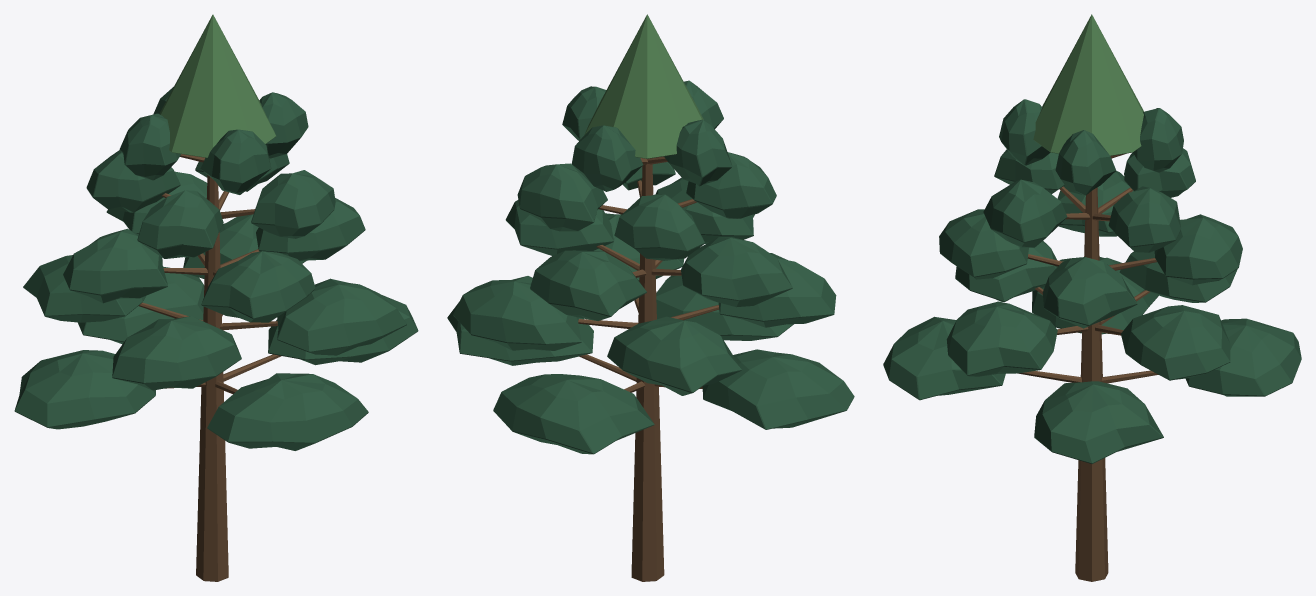
The model's file is b08_eastern_white_pine.glb.
3 views of the same model, side by side, from view 1: azimuth 30°, elevation 25°; view 2: azimuth 150°, elevation 25°; view 3: azimuth 270°, elevation 25° (orthographic).
Parts seen in each view (by area): view 1: b08_eastern_white_pine; view 2: b08_eastern_white_pine; view 3: b08_eastern_white_pine.
Boxes of the visible parts, x1,y1,x2,y2 form: b08_eastern_white_pine: [14, 14, 418, 581]; b08_eastern_white_pine: [447, 14, 854, 581]; b08_eastern_white_pine: [883, 14, 1301, 581].
Size of the model in its own units: 5.13 by 6.9 by 4.67.
